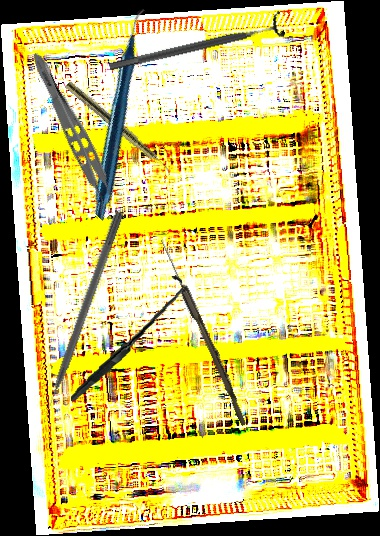Fixation Ring: (106, 9, 286, 81)
Handpiece: (14, 7, 231, 222), (63, 80, 176, 177)
Hook Surgical: (61, 274, 192, 402)
Pusher: (37, 208, 125, 424)
Surgical Spoon: (156, 237, 251, 427)
Tissue Forceps: (17, 49, 125, 217)
